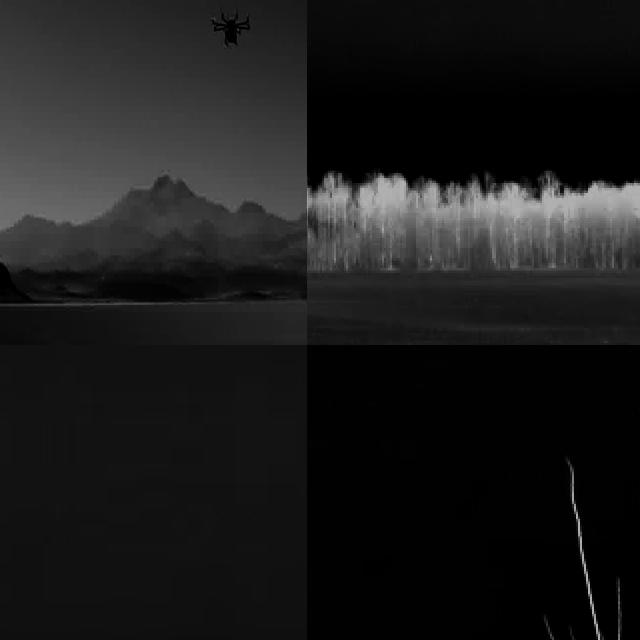drone: (206, 5, 256, 50)
